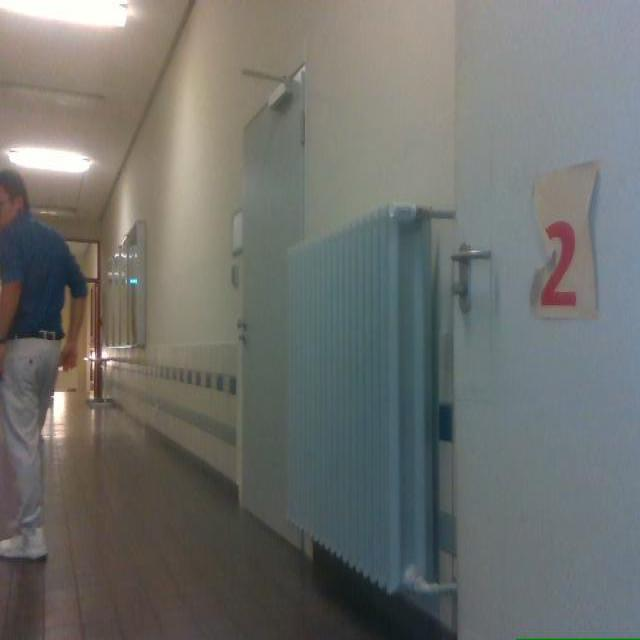humans: (0, 171, 86, 559)
